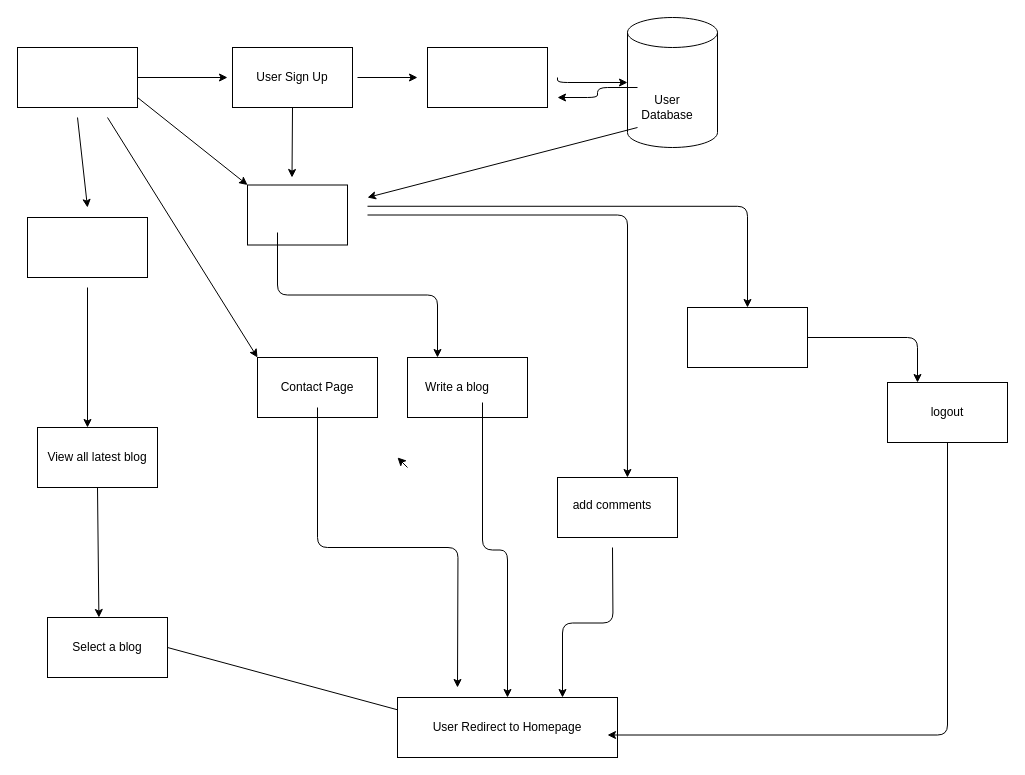
The diagram is 1025 pixels wide and 775 high, and some of its shapes have lost their labels. Each missing label, with the centre of its shape:
"/profile" belongs at point 747,337.
"Home Page" belongs at point 87,247.
"Send user sign up data to database" belongs at point 487,77.
"User" belongs at point 77,77.
"User Login In" belongs at point 297,214.
